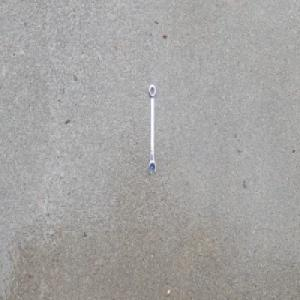Wrench: (148, 83, 156, 175)
